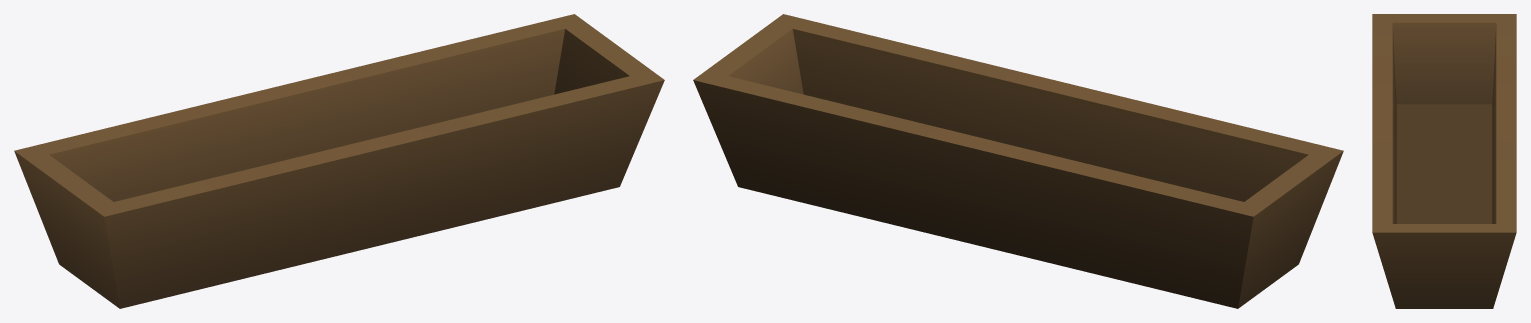
Rendered from Wooden_Feeder002.fbx.
The picture shows the model from 3 angles, left to right: view 1: azimuth 30°, elevation 25°; view 2: azimuth 150°, elevation 25°; view 3: azimuth 270°, elevation 25°; orthographic projection. The views are drawn at different scales.
Parts seen in each view (by area): view 1: Cube.009; view 2: Cube.009; view 3: Cube.009.
Boxes of the visible parts, x1,y1,x2,y2 form: Cube.009: [14, 14, 664, 308]; Cube.009: [693, 14, 1343, 308]; Cube.009: [1372, 14, 1516, 308].
Size of the model in its own units: 341 by 64.12 by 95.11.
